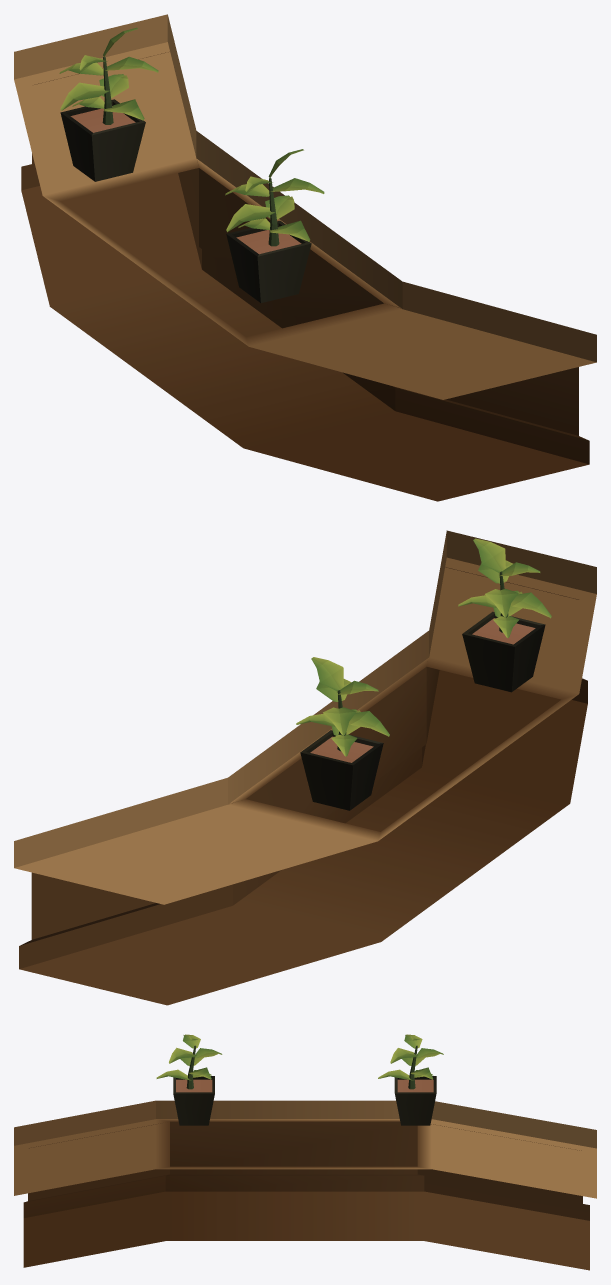
Rendered from meja_guild_gede.glb.
3 views of the same model, one above another, from view 1: azimuth 30°, elevation 25°; view 2: azimuth 150°, elevation 25°; view 3: azimuth 270°, elevation 25° (orthographic). The views are drawn at different scales.
Visible parts, largest first — view 1: Cube006; view 2: Cube006; view 3: Cube006.
Part boxes in pixels (x1,y1,x2,y2): Cube006: [14, 14, 596, 501]; Cube006: [14, 530, 596, 1005]; Cube006: [14, 1034, 596, 1270].
Bounding box in the file's own units: 0.8231 × 0.8401 × 2.5.
1 material, 1 textured.
